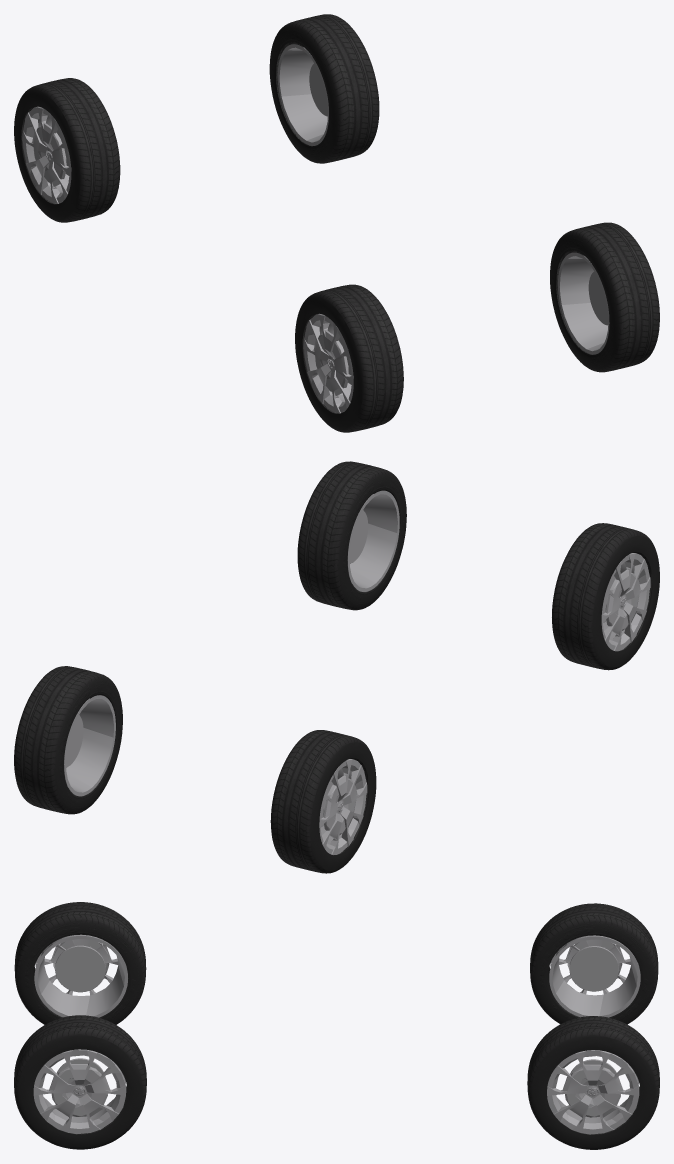
Rendered from HIACE_WHEELS.fbx.
The picture shows the model from 3 angles, top to bottom: view 1: azimuth 30°, elevation 25°; view 2: azimuth 150°, elevation 25°; view 3: azimuth 270°, elevation 25°; orthographic projection. The views are drawn at different scales.
Parts seen in each view (by area): view 1: HIACE, WHEELS; view 2: HIACE, WHEELS; view 3: HIACE, WHEELS.
Part boxes in pixels (x1,y1,x2,y2): HIACE, WHEELS: (14, 14, 659, 432); HIACE, WHEELS: (14, 461, 659, 873); HIACE, WHEELS: (14, 902, 659, 1149).
Size of the model in its own units: 842 by 356 by 1722.
